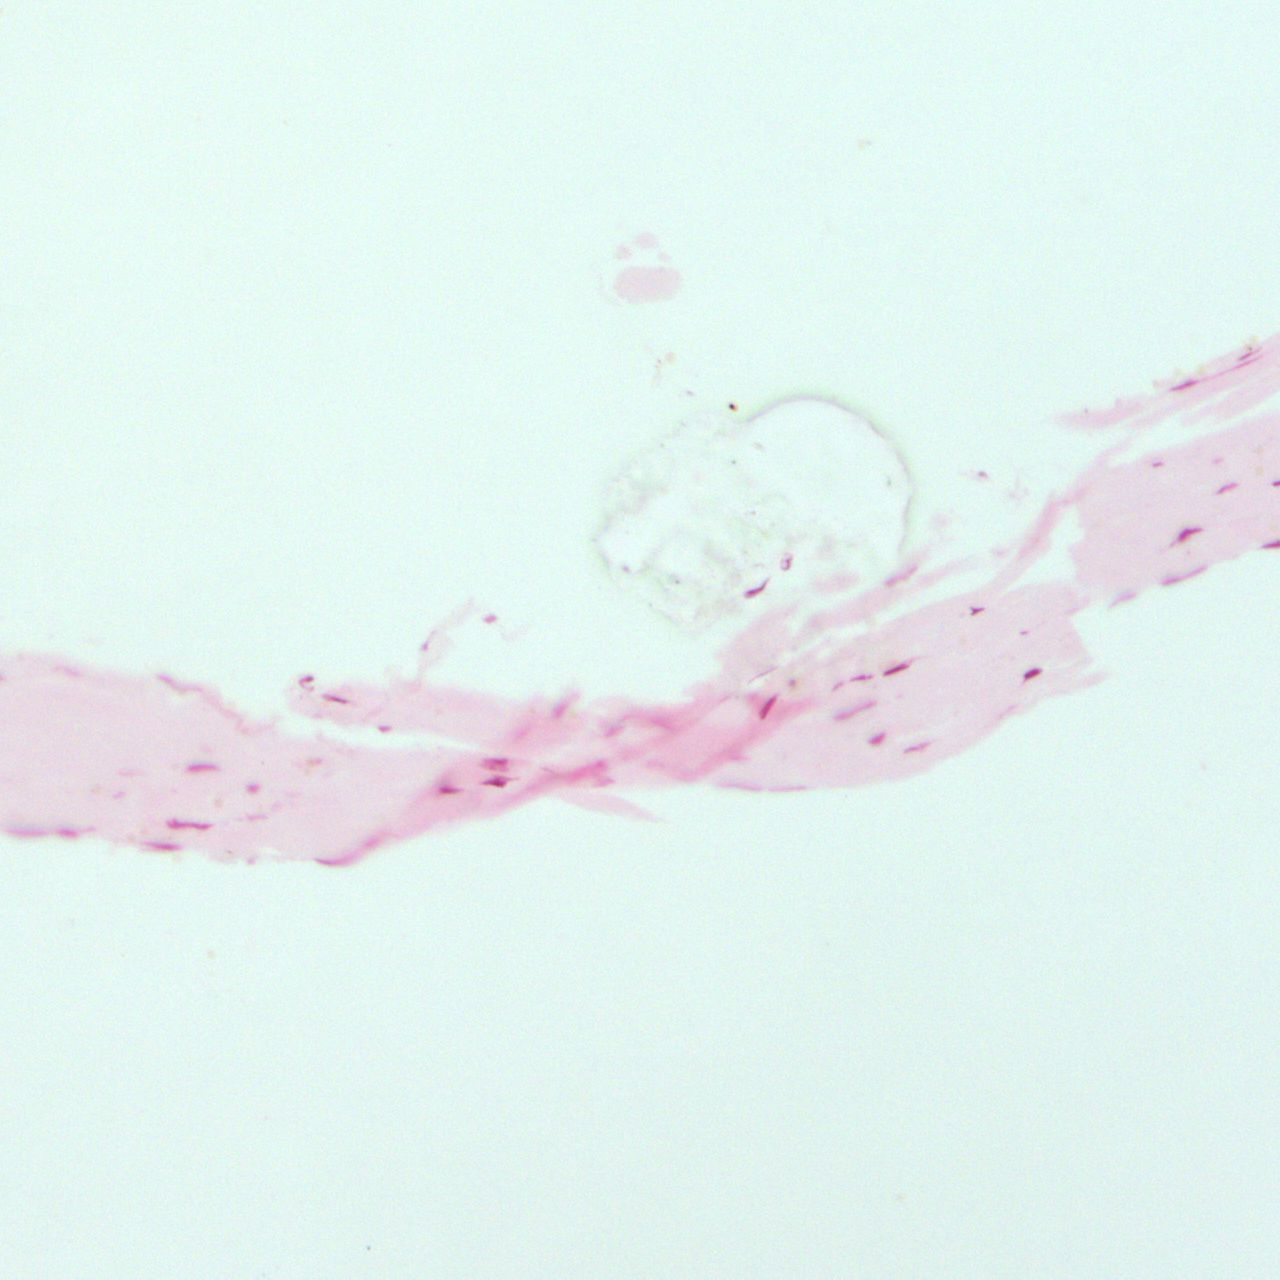dust: (727, 403, 738, 410)
nucleus-AC: (316, 823, 386, 881), (1170, 355, 1253, 396), (1158, 561, 1207, 592), (832, 697, 877, 726), (1167, 519, 1205, 549), (898, 735, 931, 760), (754, 692, 781, 721), (880, 655, 912, 679), (1208, 477, 1241, 498), (744, 576, 771, 600), (157, 670, 184, 693), (717, 779, 762, 792), (1107, 590, 1135, 608), (866, 727, 890, 749), (847, 668, 873, 688), (1021, 663, 1044, 683), (169, 821, 209, 830), (765, 784, 810, 792), (483, 775, 510, 787), (8, 829, 45, 837), (325, 695, 349, 706), (186, 765, 219, 772), (1208, 454, 1226, 467), (154, 844, 181, 852), (436, 785, 463, 794), (57, 828, 77, 838), (485, 758, 506, 768), (1261, 542, 1280, 552), (829, 680, 844, 692), (482, 615, 499, 625), (971, 606, 986, 615), (374, 726, 393, 731), (1267, 481, 1280, 488), (1151, 461, 1164, 468), (302, 675, 312, 685), (247, 787, 259, 794), (976, 471, 987, 478)
